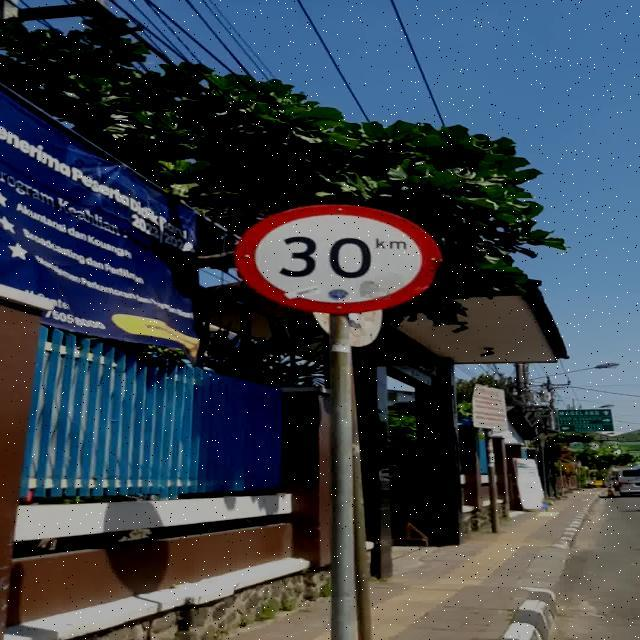Kecepatan Maks. 30 km: (234, 203, 442, 314)
